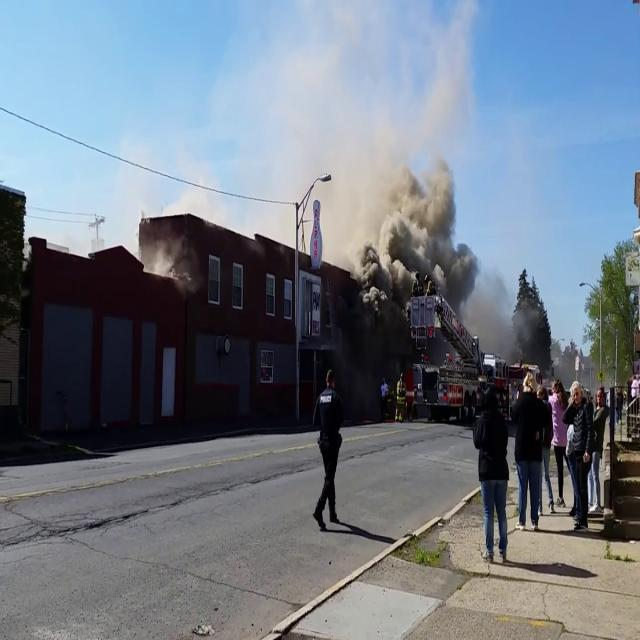Smoke: (323, 88, 551, 366), (320, 80, 492, 335)
